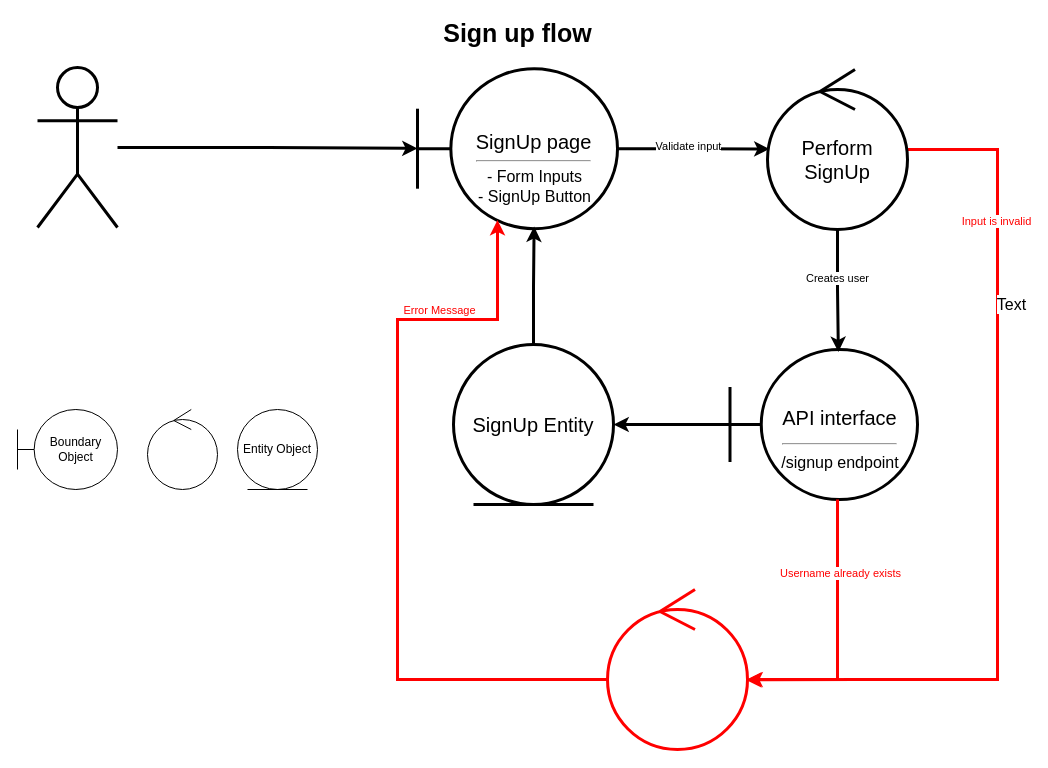
Some shapes in this 1048 by 768 pixel diagram are drawn without their labels. Here are the shapes that lost their labels. From the top down, the centre of each, then its label:
At (x=77, y=147): "User".
At (x=182, y=449): "Control Object".
At (x=677, y=669): "SignUp Error".
